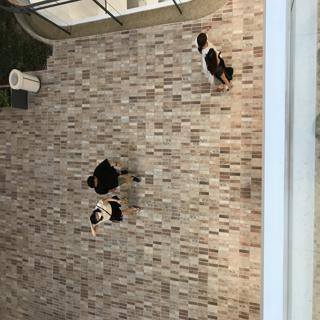person: (84, 155, 146, 194), (202, 50, 241, 103), (85, 203, 133, 232), (187, 24, 211, 58)
